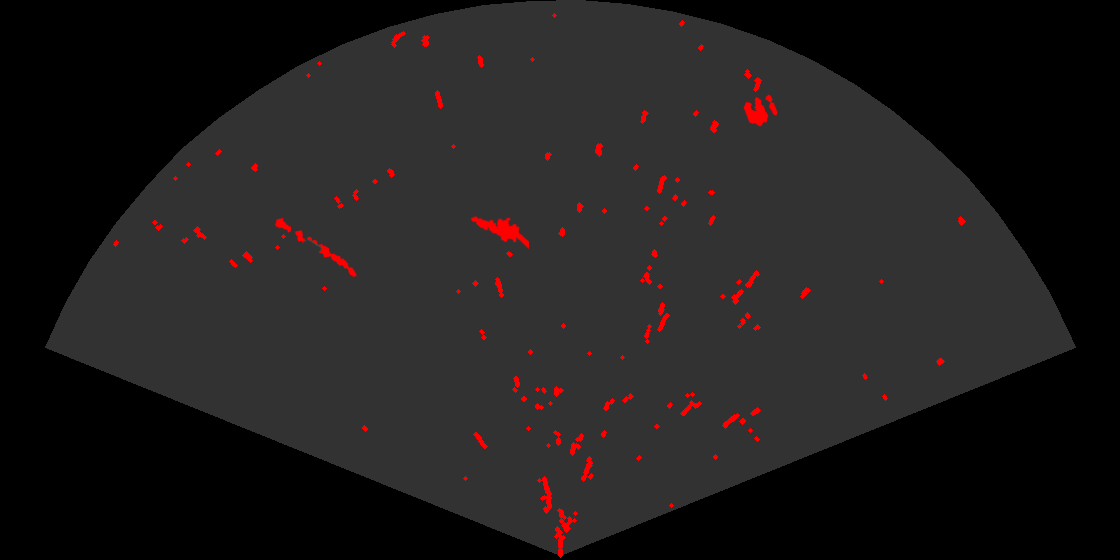ball: (742, 93, 779, 128)
chain: (273, 216, 358, 279)
frogman: (469, 214, 529, 251)
